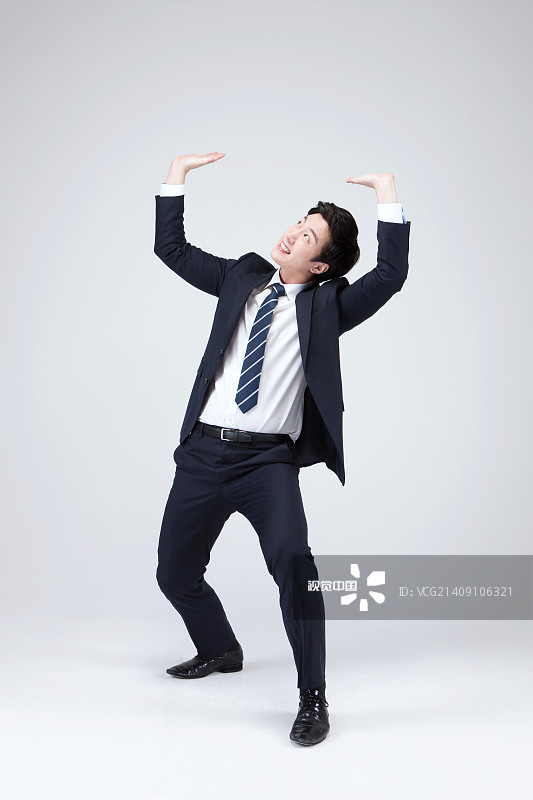no-phone: (155, 138, 242, 188), (334, 150, 408, 197)
